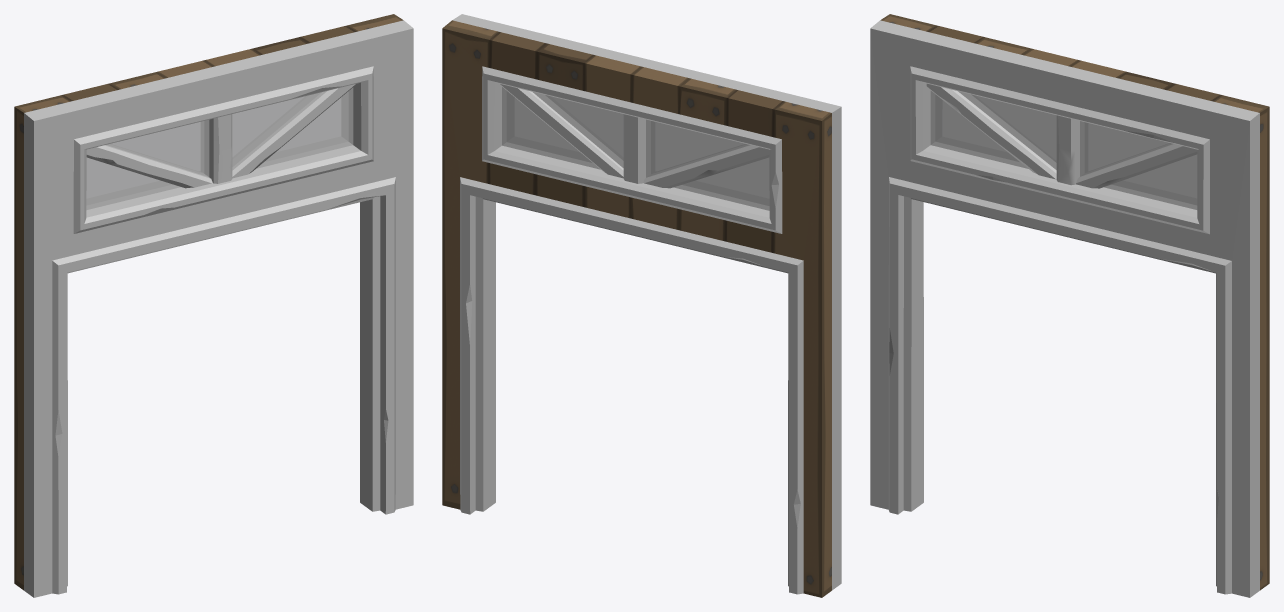
File: SM_Bld_Deco_Wall_Door_Double_01.fbx
The picture shows the model from 3 angles, left to right: view 1: azimuth 30°, elevation 25°; view 2: azimuth 150°, elevation 25°; view 3: azimuth 330°, elevation 25°; orthographic projection.
Visible parts, largest first — view 1: SM_Bld_Deco_Wall_Door_Double_01, SM_Bld_Deco_Wall_Door_Double_01_Glass; view 2: SM_Bld_Deco_Wall_Door_Double_01, SM_Bld_Deco_Wall_Door_Double_01_Glass; view 3: SM_Bld_Deco_Wall_Door_Double_01, SM_Bld_Deco_Wall_Door_Double_01_Glass.
Boxes of the visible parts, x1,y1,x2,y2 form: SM_Bld_Deco_Wall_Door_Double_01: (14,14,413,597); SM_Bld_Deco_Wall_Door_Double_01_Glass: (86,87,353,210); SM_Bld_Deco_Wall_Door_Double_01: (442,14,841,597); SM_Bld_Deco_Wall_Door_Double_01_Glass: (502,87,769,210); SM_Bld_Deco_Wall_Door_Double_01: (870,14,1269,597); SM_Bld_Deco_Wall_Door_Double_01_Glass: (930,91,1197,209).
Bounding box in the file's own units: 250 × 301 × 28.8.
